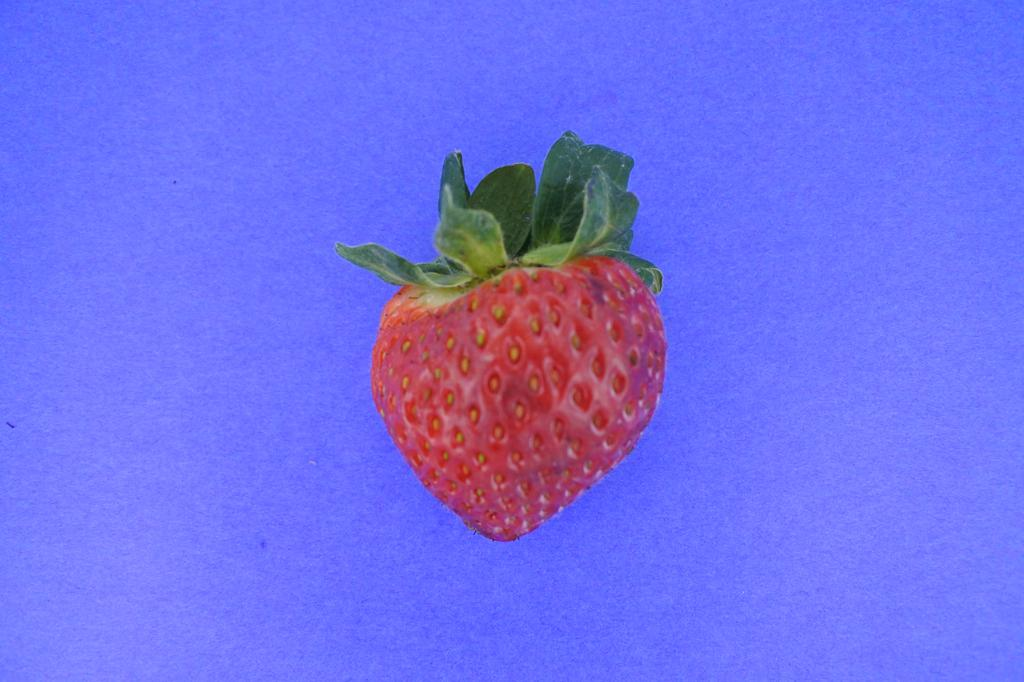red strawberry: (332, 128, 667, 542)
